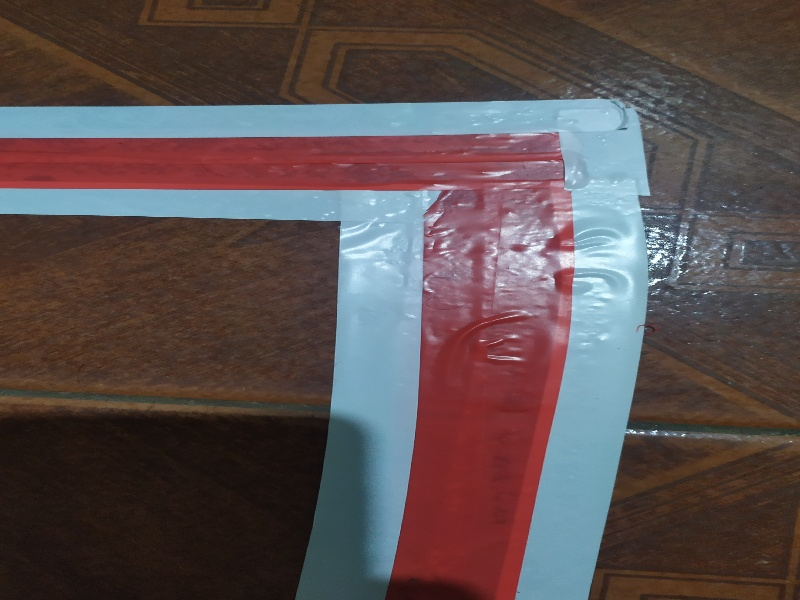esquerda: (9, 75, 646, 600)
